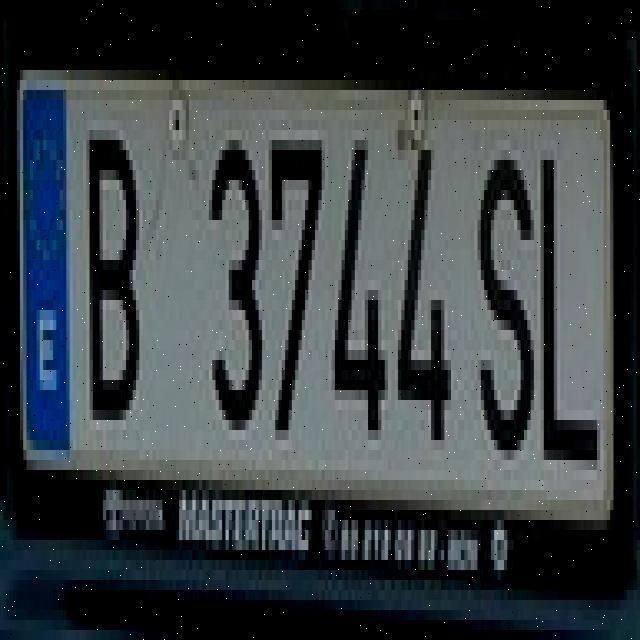LicensePlate: (15, 34, 638, 606)
